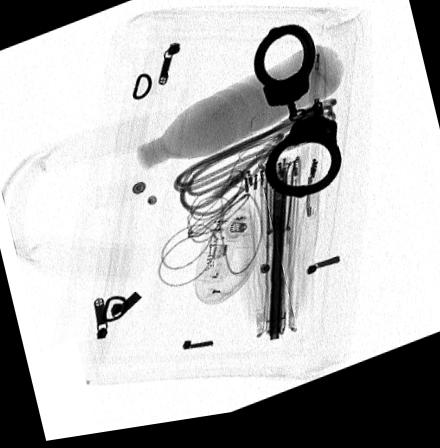HandCuffs: (253, 33, 341, 207)
